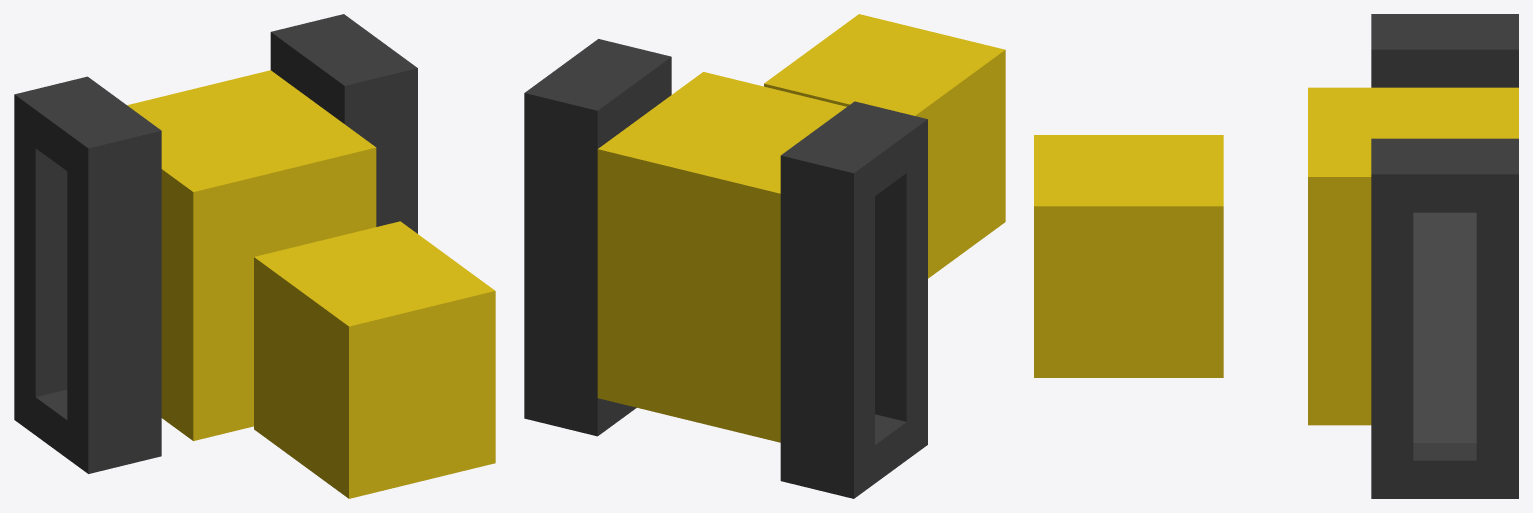
The model's file is tracked robot spinning.obj.
3 renders of one model, left to right at view 1: azimuth 30°, elevation 25°; view 2: azimuth 150°, elevation 25°; view 3: azimuth 270°, elevation 25°, orthographic.
Size of the model in its own units: 18 by 17 by 23.
1 material, 1 textured.
